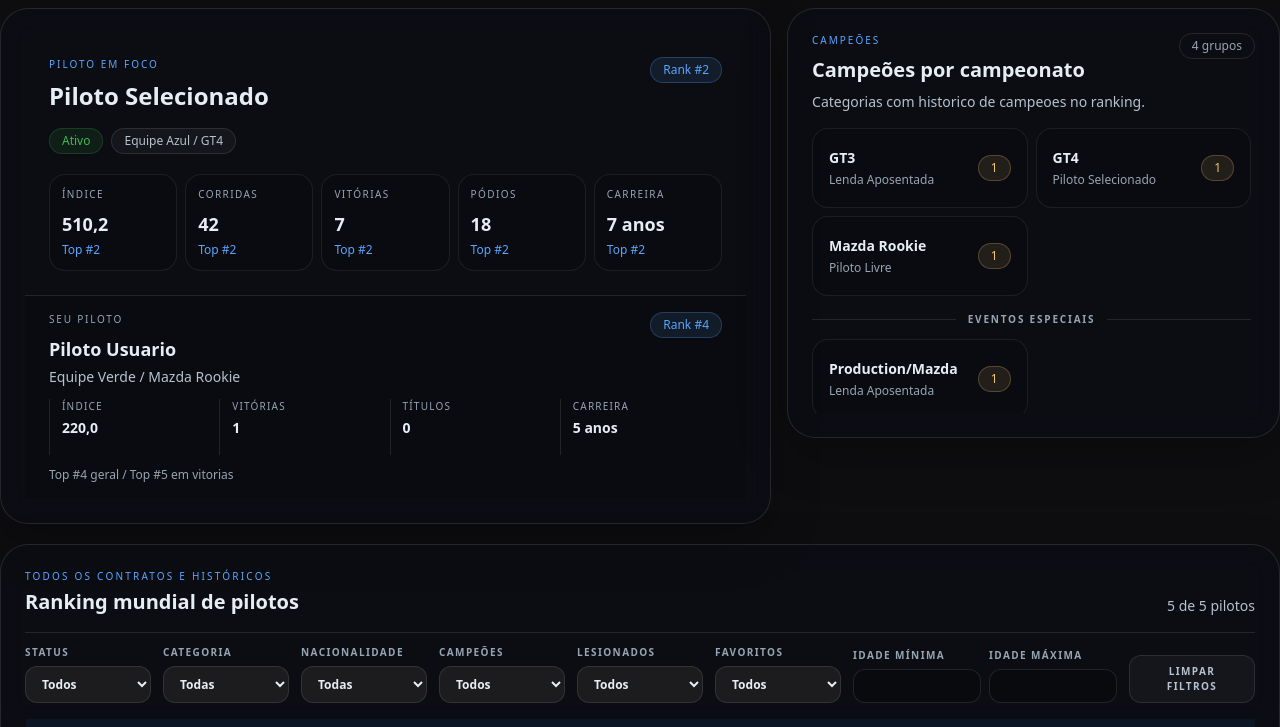
it: GlobalDriversTab › opens a championship champion popup from the championship summary
Click the button with aria-label "Ver campeões de GT3". click: x=920, y=168
box: [812,128,1028,208]
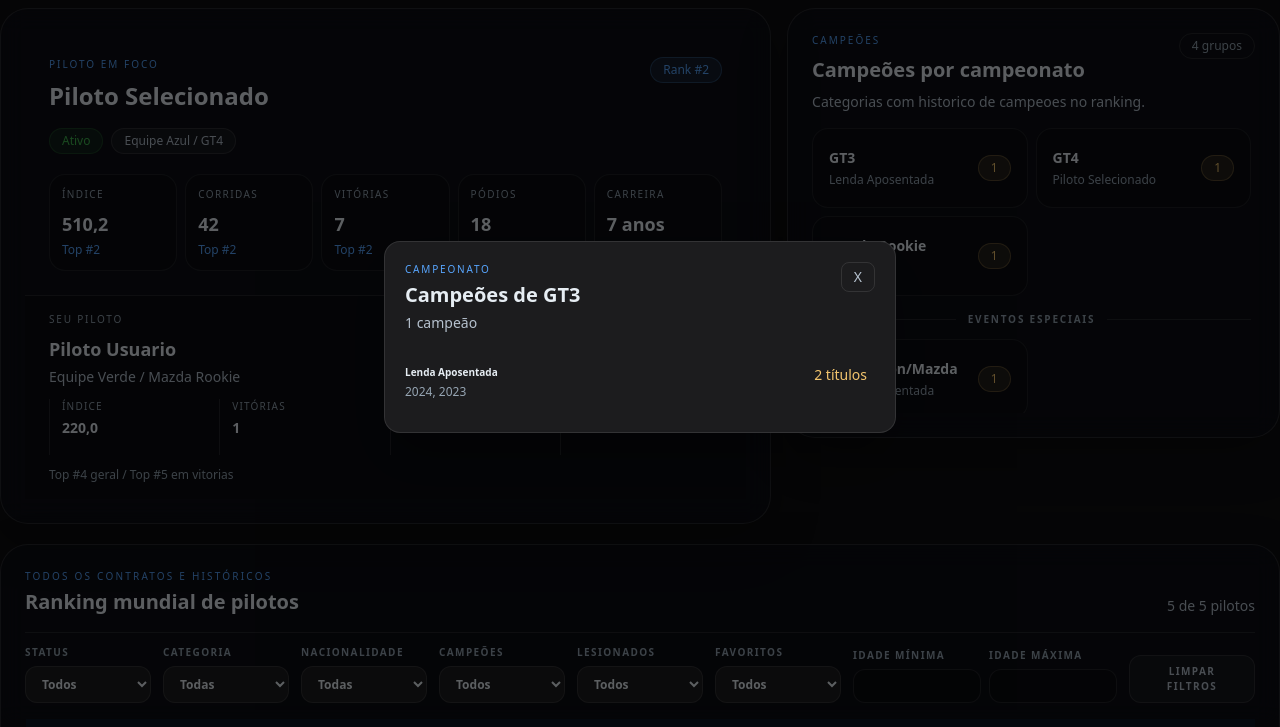
Result: the text "1 campeão" is shown at [405,313,477,332]
Result: the text "Lenda Aposentada" is shown at [405,365,498,380]
Result: the text "2 títulos" is shown at [814,365,867,385]
Click the button named "Fechar campeões". click: x=858, y=277
box: [841,262,875,292]
(page scrolled)
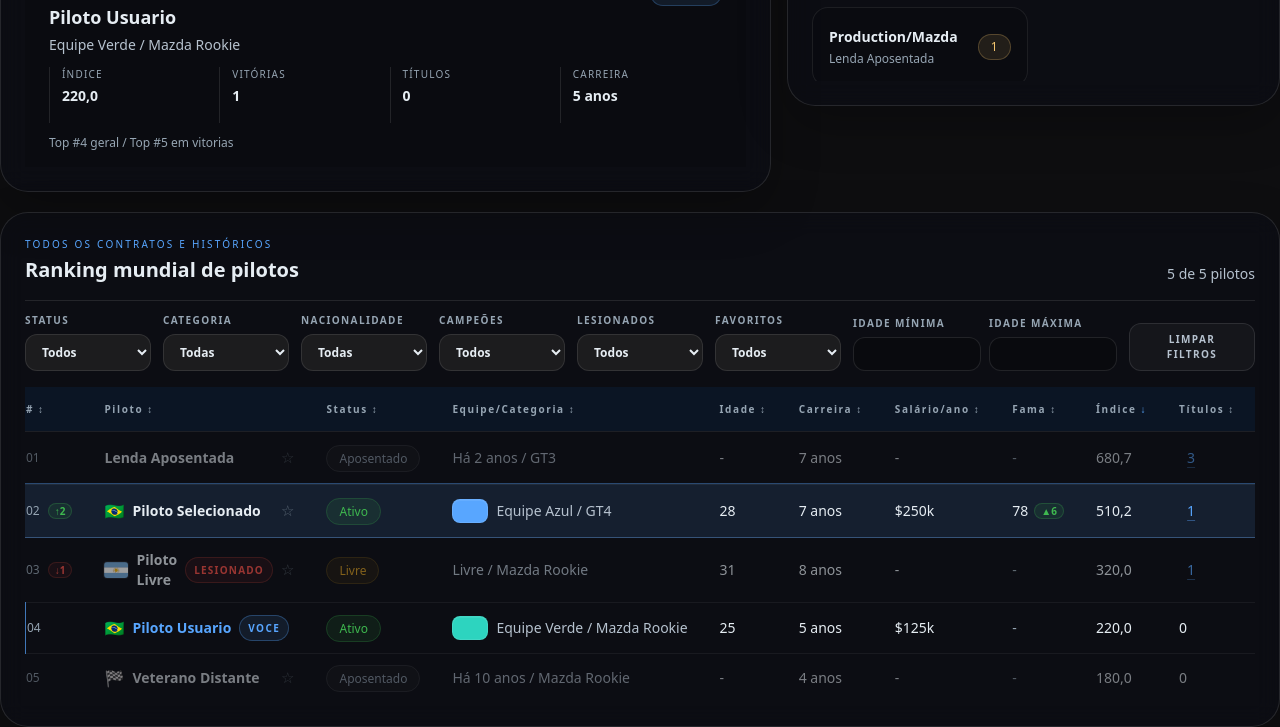
Result: the heading "Campeões de GT3" is gone
